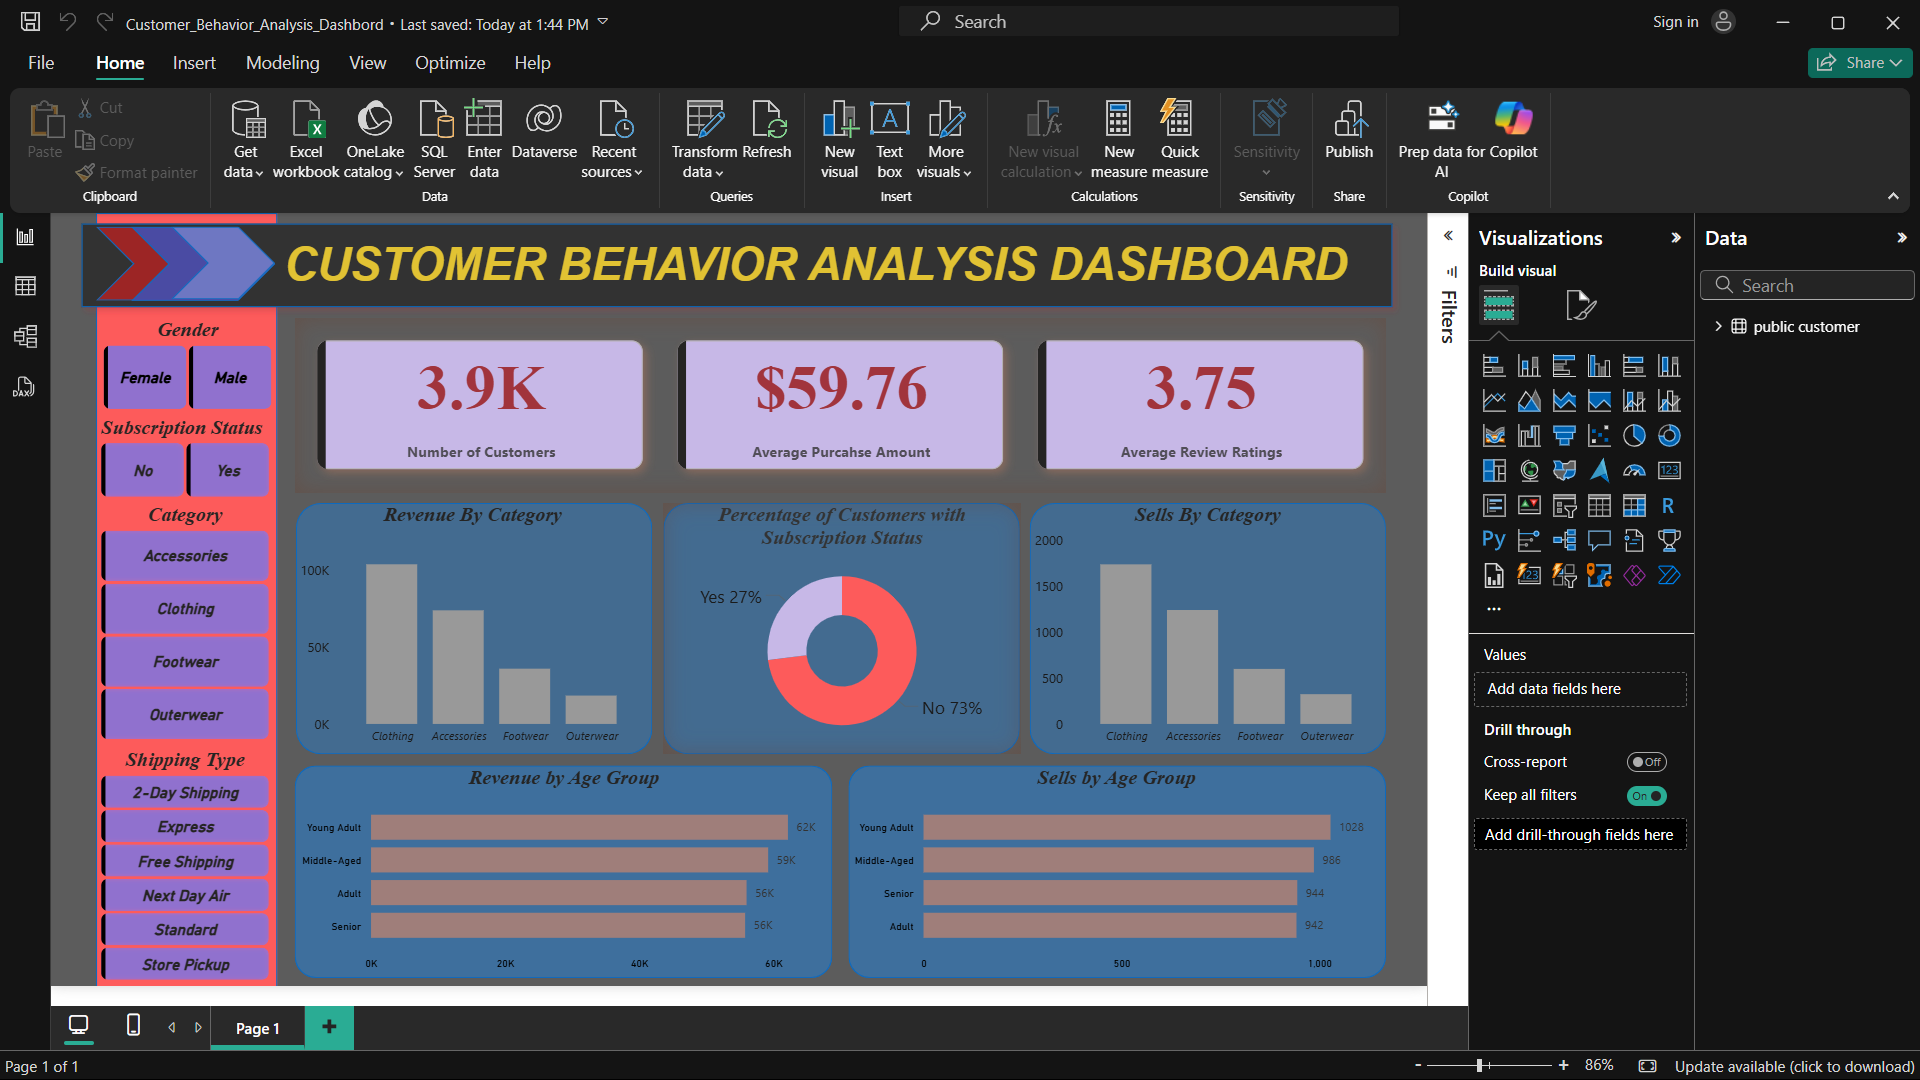

The dashboard page shown, as its layout file describes it:
{"tool":"powerbi","page":{"name":"Page 1","canvas":[1280,720],"ordinal":0},"visuals":[{"type":"shape","box":[910.7,269.8,331.4,233.7],"z":0},{"type":"clusteredColumnChart","title":"Sells By Category","fields":{"Category":["public customer.category"],"Y":["public customer.Number of Customers"]},"box":[910.7,269.8,331.4,233.7],"z":1000},{"type":"shape","box":[74.2,360.9,105.7,119.4],"z":2000},{"type":"cardVisual","fields":{"Data":["public customer.Number of Customers","public customer.Average Purcahse Amount","public customer.Average Review Ratings"]},"box":[227,97.7,1015.1,162.8],"z":3000},{"type":"shape","box":[42.1,0,168.6,720.9],"z":4000},{"type":"shape","box":[18.3,0,1239.1,97.4],"z":5000},{"type":"textbox","box":[180,19.2,1061.7,68.3],"z":6000},{"type":"shape","box":[228.1,269.8,331.4,233.7],"z":7000},{"type":"shape","box":[570,269.8,331.4,233.7],"z":8000},{"type":"donutChart","title":"Percentage of Customers with Subscription Status","fields":{"Category":["public customer.subscription_status"],"Y":["CountNonNull(public customer.customer_id)"]},"box":[570,269.8,332.6,233.7],"z":9000},{"type":"clusteredColumnChart","title":"Revenue By Category","fields":{"Y":["Sum(public customer.purchase_amount)"],"Category":["public customer.category"]},"box":[227,269.8,331.4,233.7],"z":10000},{"type":"advancedSlicerVisual","title":"Subscription Status","fields":{"Values":["public customer.subscription_status"]},"box":[42.1,188.4,166.3,81.4],"z":11000},{"type":"advancedSlicerVisual","title":"Gender","fields":{"Values":["public customer.gender"]},"box":[44.4,97.7,166.3,90.7],"z":12000},{"type":"advancedSlicerVisual","title":"Category","fields":{"Values":["public customer.category"]},"box":[42.1,269.8,166.3,227.9],"z":13000},{"type":"shape","box":[227,514,500,197.7],"z":14000},{"type":"shape","box":[742.1,514,500,197.7],"z":15000},{"type":"advancedSlicerVisual","title":"Shipping Type","fields":{"Values":["public customer.shipping_type"]},"box":[42.1,497.7,166.3,222.1],"z":16000},{"type":"clusteredBarChart","title":"Revenue by Age Group","fields":{"Y":["Sum(public customer.purchase_amount)"],"Category":["public customer.age_group"]},"box":[228.1,514,498.8,197.7],"z":17000},{"type":"clusteredBarChart","title":"Sells by Age Group","fields":{"Category":["public customer.age_group"],"Y":["CountNonNull(public customer.item_purchased)"]},"box":[742.1,514,498.8,197.7],"z":18000},{"type":"shape","box":[41.9,12.8,166.3,68.6],"z":19000},{"type":"shape","box":[74.2,12.5,134.2,69.2],"z":20000},{"type":"shape","box":[111.7,13.3,96.7,67.5],"z":21000}]}

Visuals, with their boxes on the page's 1280x720 design canvas (x1, y1, x2, y2). These are canvas units, not pixel positions in the 1920x1080 screenshot, which may show the page scaled, cropped or inside an application window:
shape: [left=911, top=270, right=1242, bottom=504]
"Sells By Category" clusteredColumnChart: [left=911, top=270, right=1242, bottom=504]
shape: [left=74, top=361, right=180, bottom=480]
cardVisual - public customer.Number of Customers x public customer.Average Purcahse Amount: [left=227, top=98, right=1242, bottom=260]
shape: [left=42, top=0, right=211, bottom=721]
shape: [left=18, top=0, right=1257, bottom=97]
textbox: [left=180, top=19, right=1242, bottom=88]
shape: [left=228, top=270, right=560, bottom=504]
shape: [left=570, top=270, right=901, bottom=504]
"Percentage of Customers with Subscription Status" donutChart: [left=570, top=270, right=903, bottom=504]
"Revenue By Category" clusteredColumnChart: [left=227, top=270, right=558, bottom=504]
"Subscription Status" advancedSlicerVisual: [left=42, top=188, right=208, bottom=270]
"Gender" advancedSlicerVisual: [left=44, top=98, right=211, bottom=188]
"Category" advancedSlicerVisual: [left=42, top=270, right=208, bottom=498]
shape: [left=227, top=514, right=727, bottom=712]
shape: [left=742, top=514, right=1242, bottom=712]
"Shipping Type" advancedSlicerVisual: [left=42, top=498, right=208, bottom=720]
"Revenue by Age Group" clusteredBarChart: [left=228, top=514, right=727, bottom=712]
"Sells by Age Group" clusteredBarChart: [left=742, top=514, right=1241, bottom=712]
shape: [left=42, top=13, right=208, bottom=81]
shape: [left=74, top=12, right=208, bottom=82]
shape: [left=112, top=13, right=208, bottom=81]
